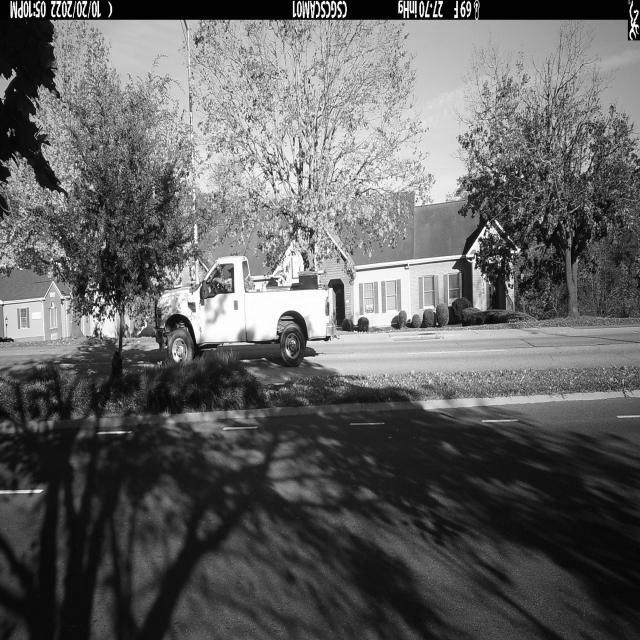Pickup: (155, 256, 336, 367)
